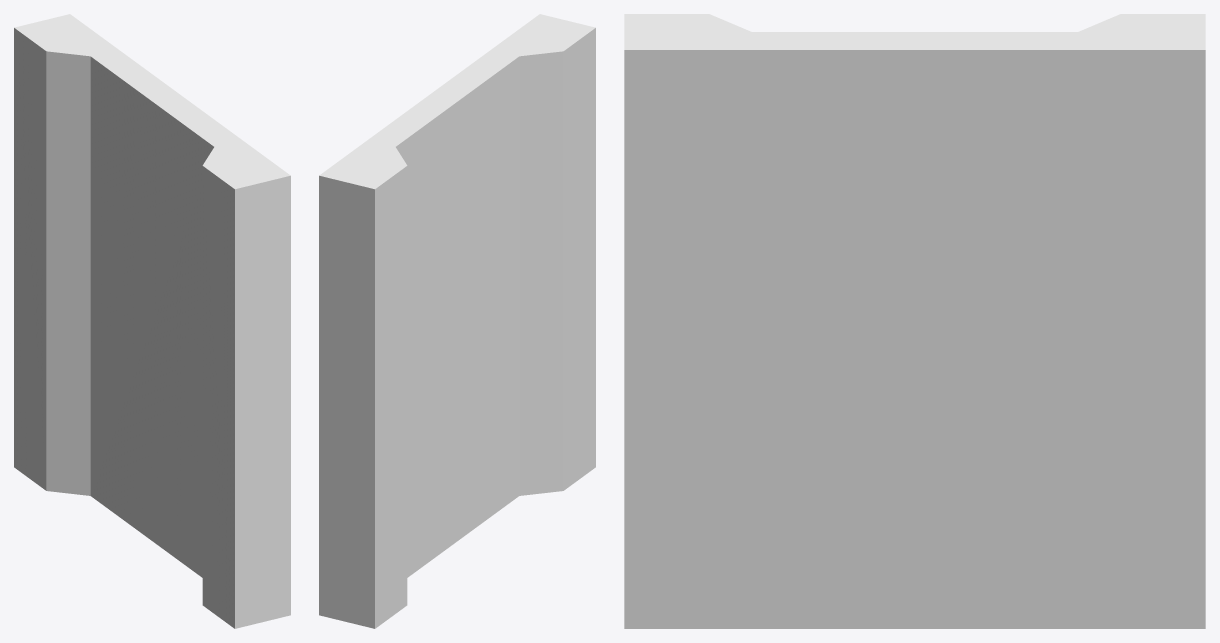
Rendered from Thresher-Room-Wall.obj.
3 views of the same model, side by side, from view 1: azimuth 30°, elevation 25°; view 2: azimuth 150°, elevation 25°; view 3: azimuth 270°, elevation 25° (orthographic). The views are drawn at different scales.
Visible parts, largest first — view 1: Thresher-Room-Wall; view 2: Thresher-Room-Wall; view 3: Thresher-Room-Wall.
Part boxes in pixels (x1,y1,x2,y2): Thresher-Room-Wall: (14,14,290,628); Thresher-Room-Wall: (319,14,595,628); Thresher-Room-Wall: (624,14,1205,628).
Bounding box in the file's own units: 2 × 15 × 13.66.
